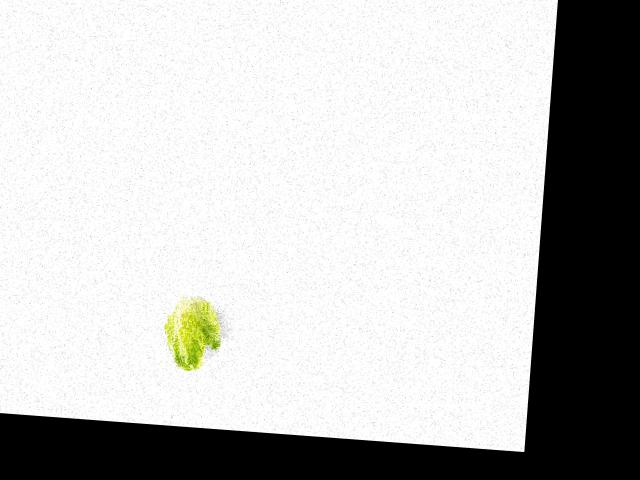lettuce: (158, 286, 225, 377)
